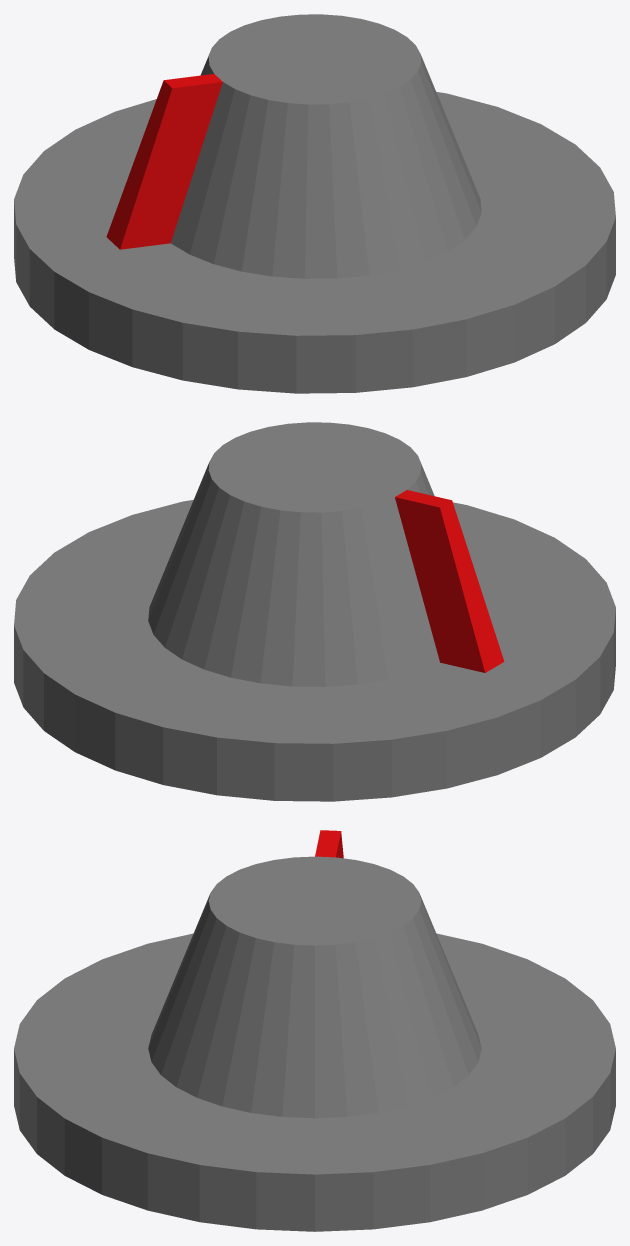
File: spinner_for_voltage_source.glb
3 views of the same model, one above another, from view 1: azimuth 30°, elevation 25°; view 2: azimuth 150°, elevation 25°; view 3: azimuth 270°, elevation 25° (orthographic).
Visible parts, largest first — view 1: Крутилка; view 2: Крутилка; view 3: Крутилка.
Part boxes in pixels (left/top/right/bottom): Крутилка: left=14, top=14, right=615, bottom=393; Крутилка: left=14, top=422, right=615, bottom=801; Крутилка: left=14, top=830, right=615, bottom=1231.
Bounding box in the file's own units: 1.02 × 0.3911 × 1.03.
